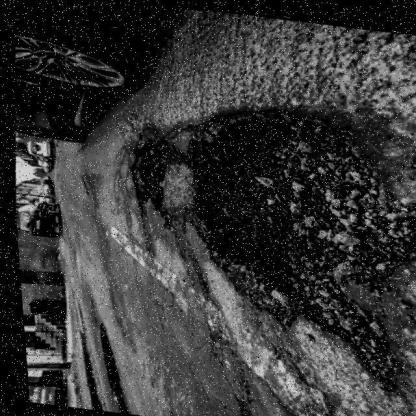pothole: (101, 79, 416, 385)
